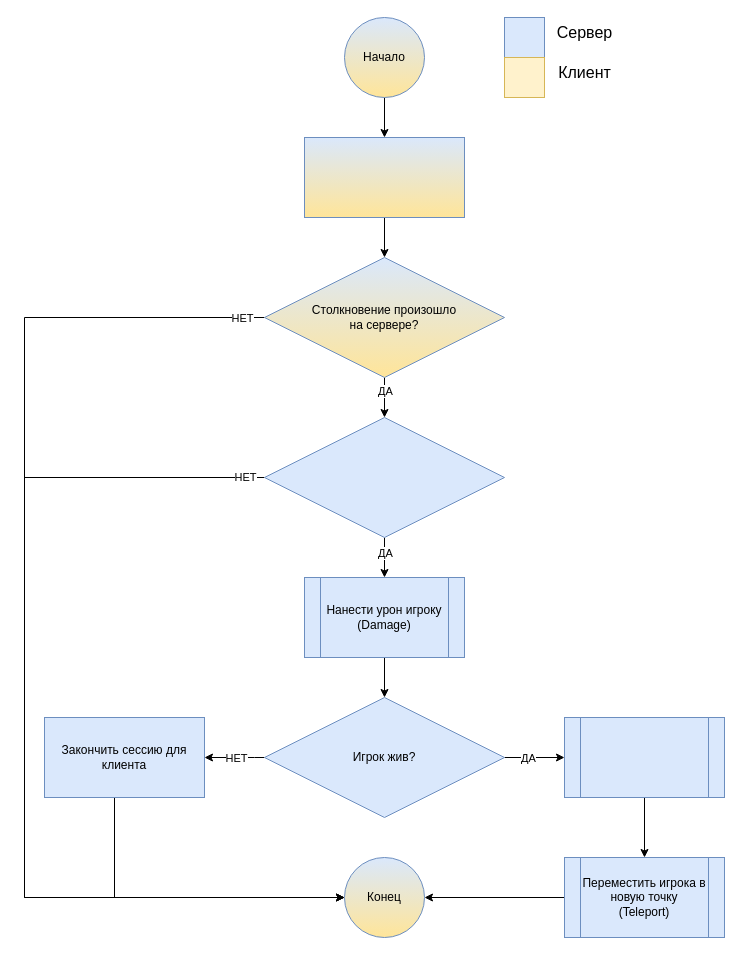
Some shapes in this 742 by 955 pixel diagram are drawn without their labels. Each missing label, with the centre of its shape:
Включить игроку неуязвимость (SetImmortalTime): pixel 644 757
Произошло столкновение: pixel 384 177
Столкновение произошло с игроком?: pixel 384 477
